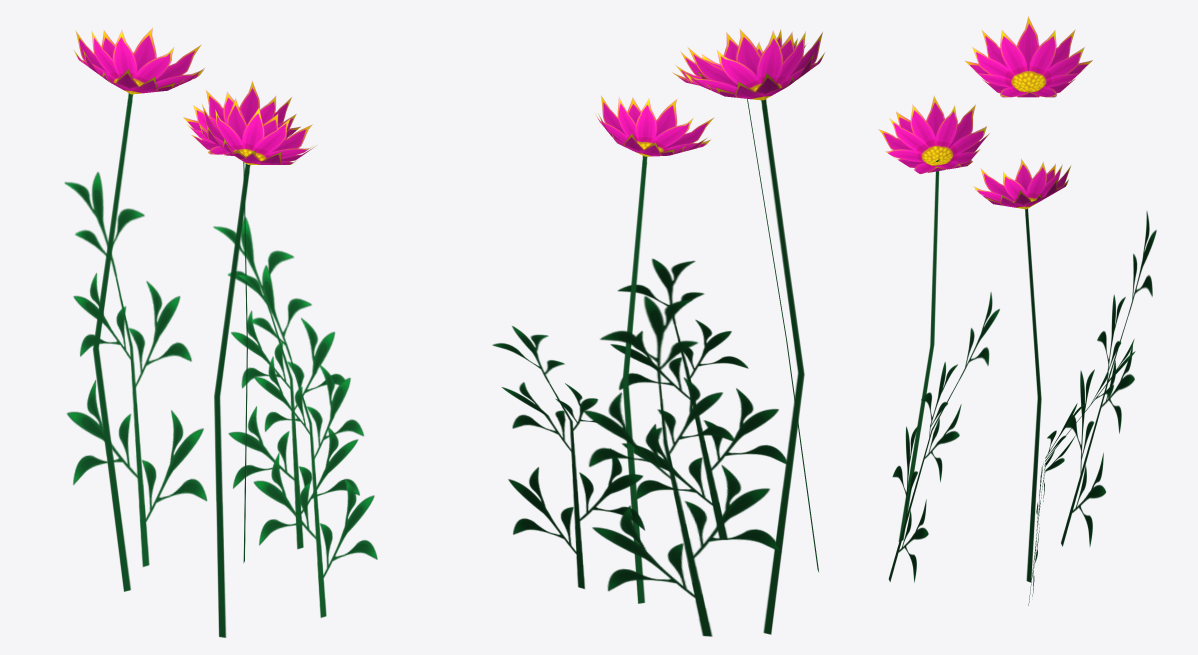
Rendered from Flower2.glb.
The picture shows the model from 3 angles, left to right: view 1: azimuth 30°, elevation 25°; view 2: azimuth 150°, elevation 25°; view 3: azimuth 270°, elevation 25°; orthographic projection. The views are drawn at different scales.
Visible parts, largest first — view 1: Flower_05a; view 2: Flower_05a; view 3: Flower_05a.
Boxes of the visible parts, x1,y1,x2,y2 form: Flower_05a: (64, 27, 377, 637); Flower_05a: (492, 29, 824, 636); Flower_05a: (878, 16, 1156, 605).
Bounding box in the file's own units: 18.17 × 31.68 × 17.97.
1 material, 1 textured.
